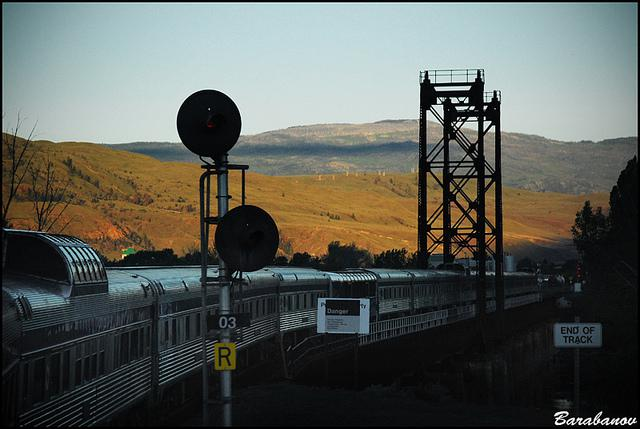Train: (2, 227, 558, 425)
